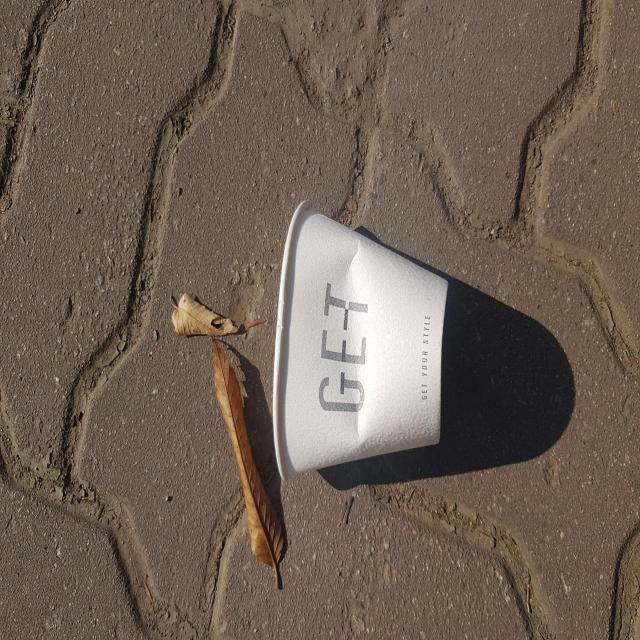paperpack: (273, 201, 448, 478)
